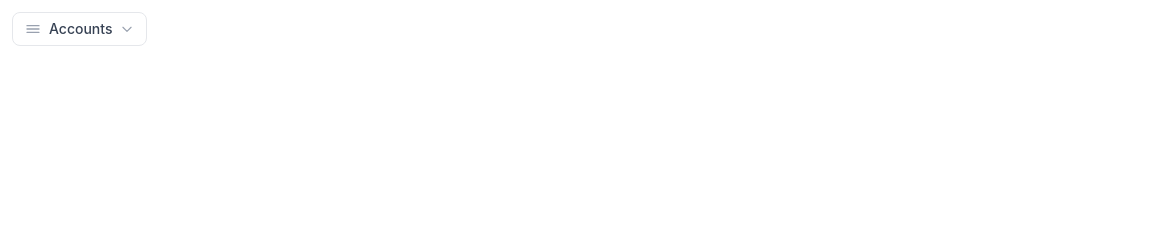
Test: AccountSwitcher display names › matches search on display name, institution, and last4
Click the button "Accounts" at x=80, y=29, box [12,12,148,46]
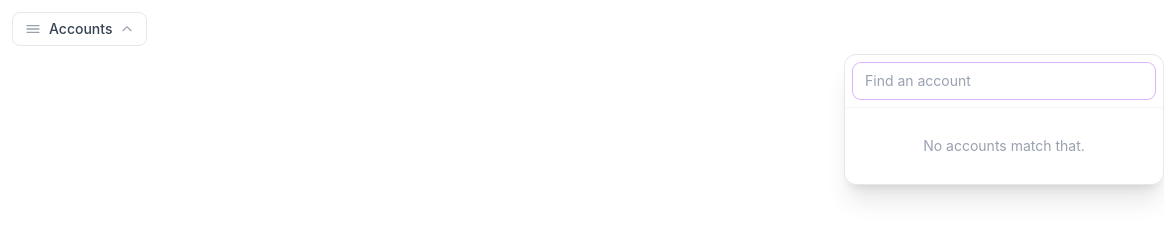
Check: the field with placeholder "Find an account" is shown
Type "everyday" into the field with placeholder "Find an account" at x=1004, y=81, box [853,63,1155,99]
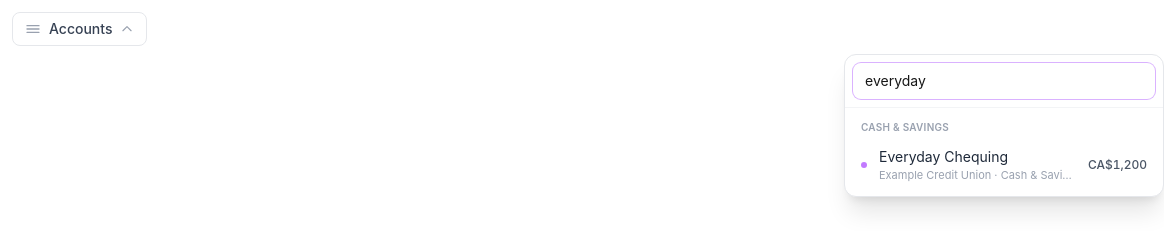
Check: the text "Real Estate Co" is not shown
Check: the text "Everyday Chequing" is shown, box [879,148,1008,165]
Replace the text in the field with placeholder "Find an account" with "example bank" at x=1004, y=81, box [853,63,1155,99]
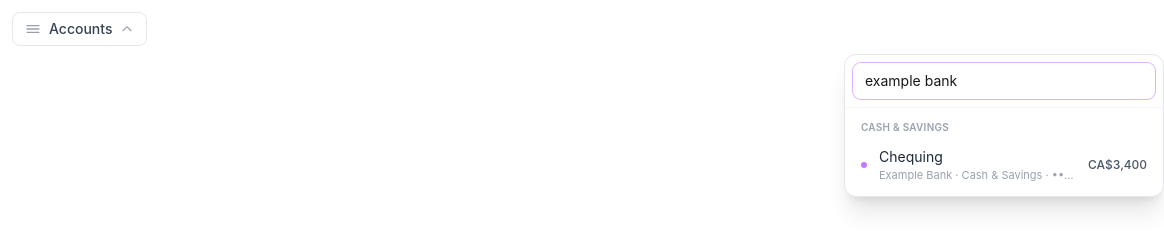
Check: the text "Chequing" is shown, box [879,148,943,165]
Check: the link "Everyday Chequing" is gone
Replace the text in the field with placeholder "Find an account" with "6006" at x=1004, y=81, box [853,63,1155,99]
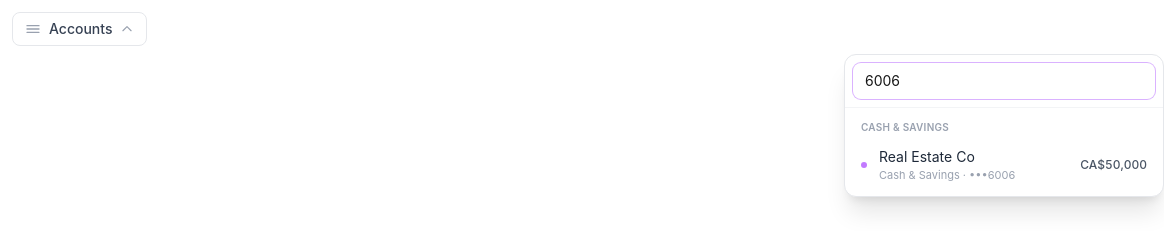
Check: the text "Real Estate Co" is shown, box [879,148,975,165]
Check: the link "Chequing" is gone
